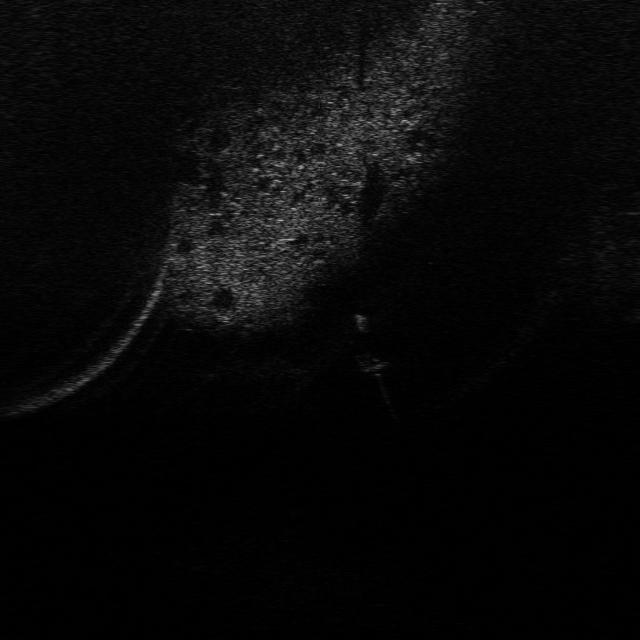cube: (352, 348, 394, 378)
cylinder: (348, 308, 376, 336)
